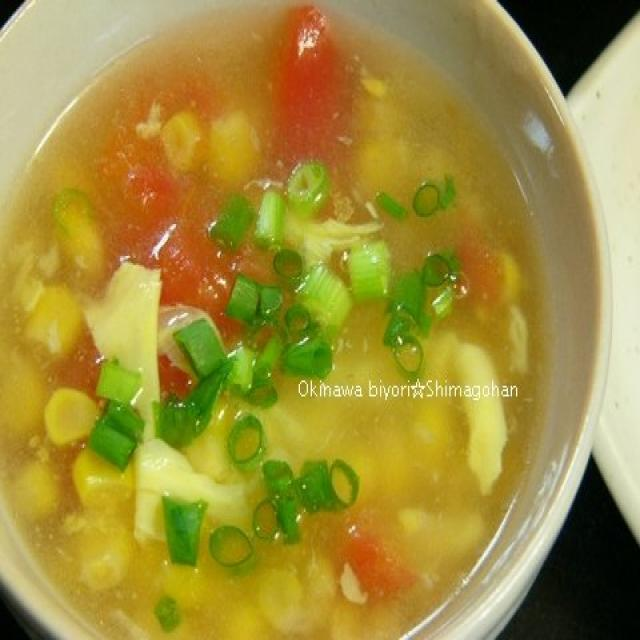汤锅炖物: (0, 2, 600, 634)
